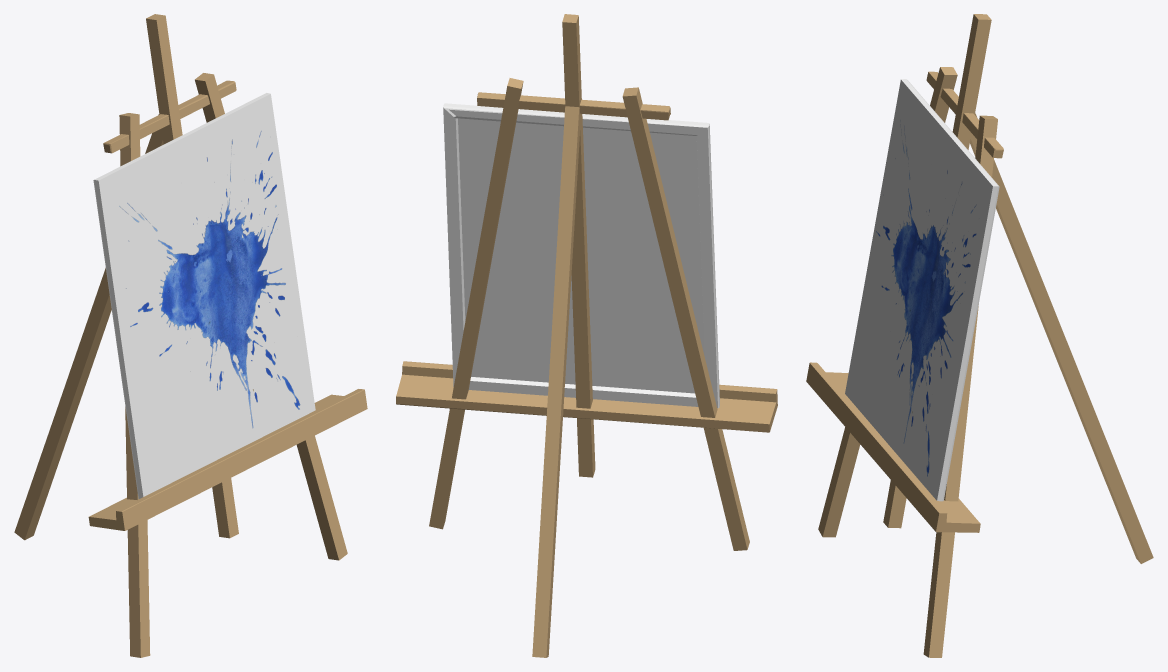
File: l_picture_paintingeasel_1.glb
The picture shows the model from 3 angles, left to right: view 1: azimuth 30°, elevation 25°; view 2: azimuth 150°, elevation 25°; view 3: azimuth 270°, elevation 25°; orthographic projection.
Visible parts, largest first — view 1: Picture_Easel; view 2: Picture_Easel; view 3: Picture_Easel.
Part boxes in pixels (bbox=[...]): Picture_Easel: bbox=[14, 14, 367, 657]; Picture_Easel: bbox=[396, 14, 777, 657]; Picture_Easel: bbox=[806, 14, 1153, 657].
Bounding box in the file's own units: 0.781 × 1.32 × 0.7284.
Materials: 2 (2 with a texture image).
